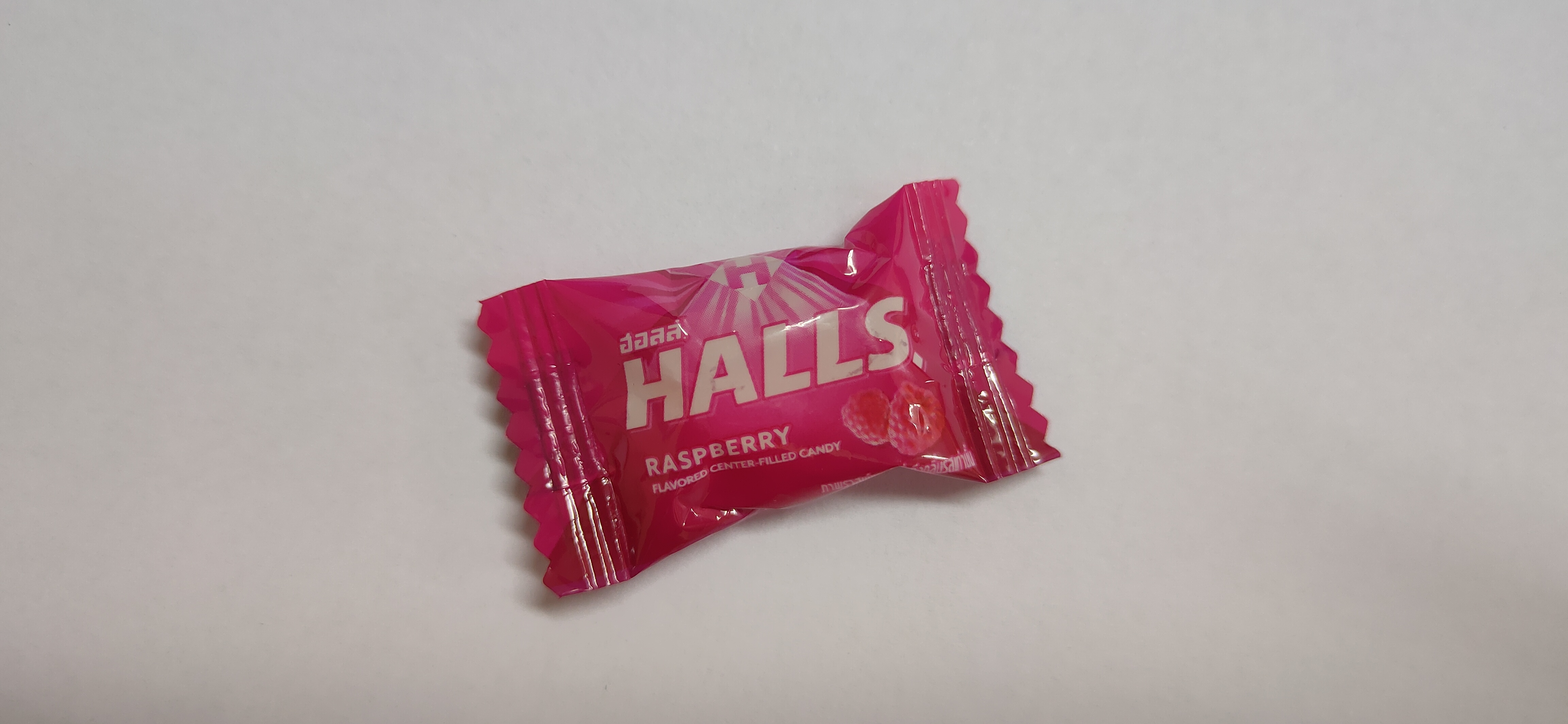plastic: (463, 161, 1073, 630)
